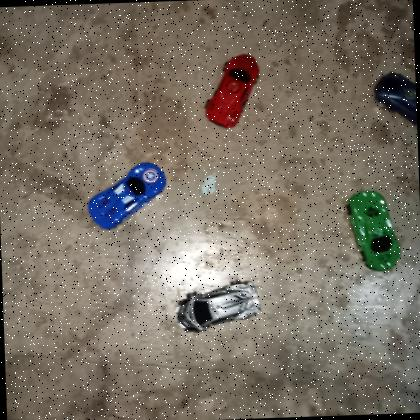Car: (86, 160, 170, 231), (176, 276, 264, 336), (199, 52, 265, 130), (346, 188, 404, 274)
